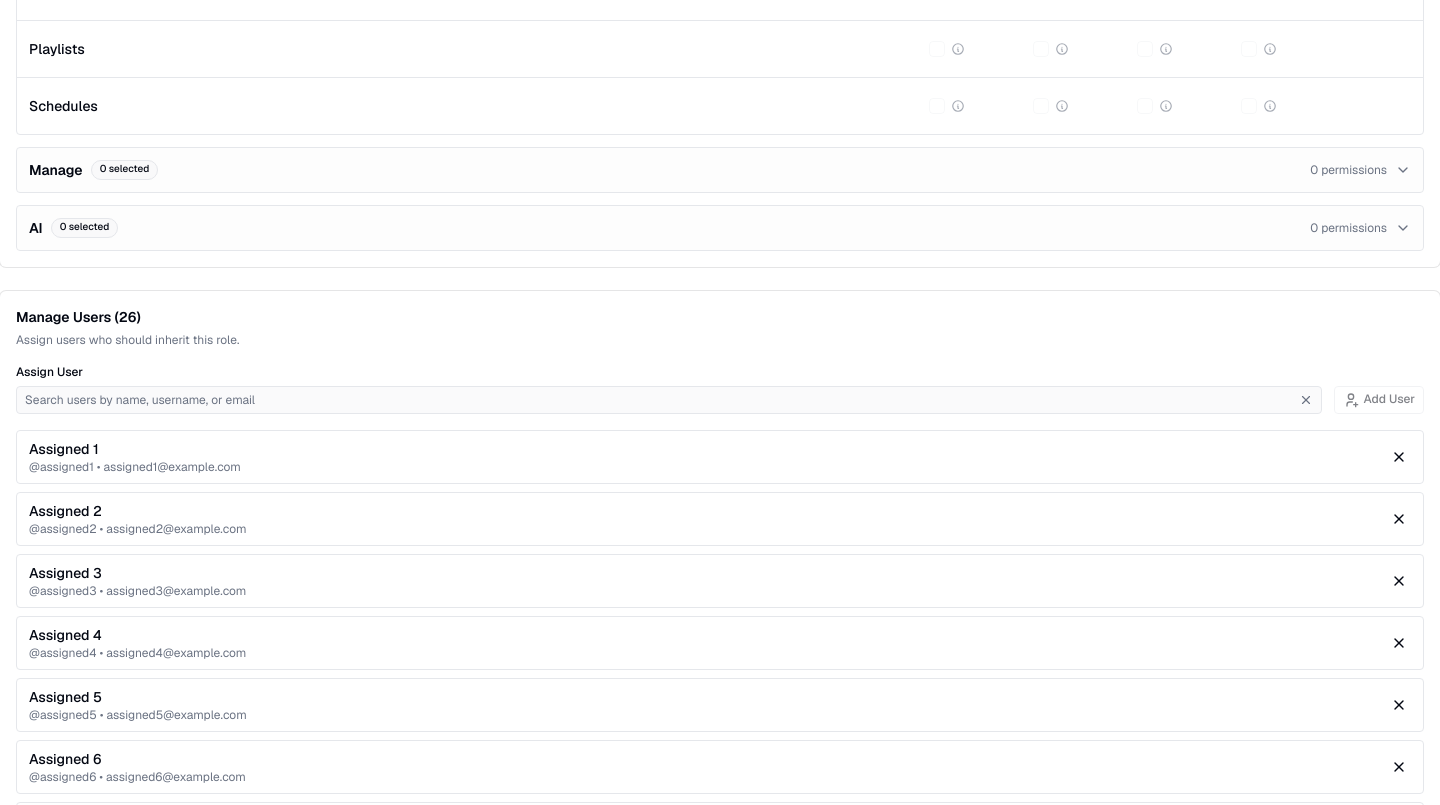
Scenario: RoleForm › preserves search query and assigned-user pagination behavior
(page scrolled)
In the dropdown with placeholder "Search users by name, username, or email": [655, 400] box top-left (17, 386), bottom-right (1294, 414), type "  ali  "
(page scrolled)
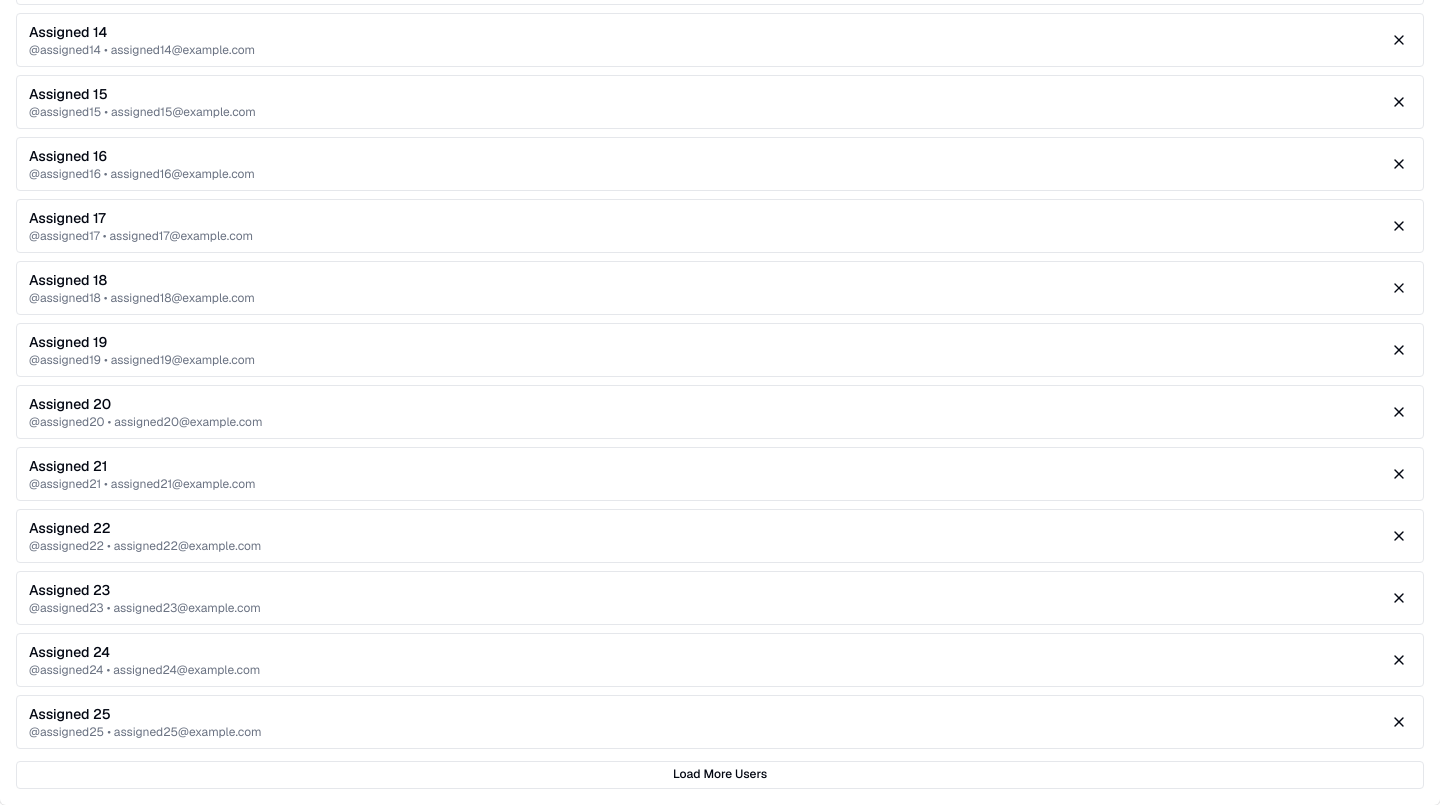
Expected: the text "Assigned 25" is shown, top-left (29, 705), bottom-right (111, 723)
Expected: the text "Assigned 26" is not shown
Press Escape
Click the button "Load More Users": [720, 775] box top-left (16, 761), bottom-right (1424, 789)
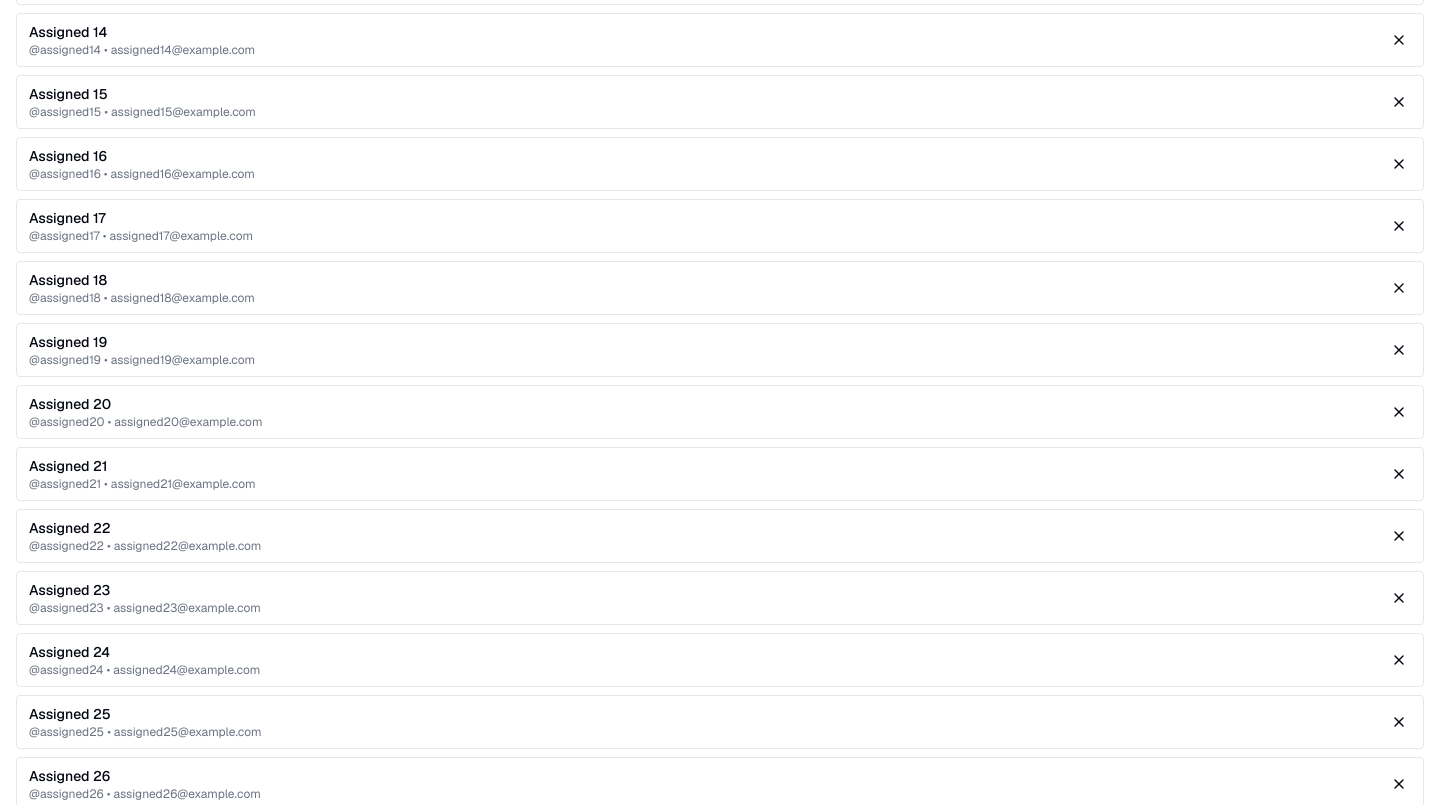
Expected: the text "Assigned 26" is shown, top-left (29, 767), bottom-right (110, 785)
